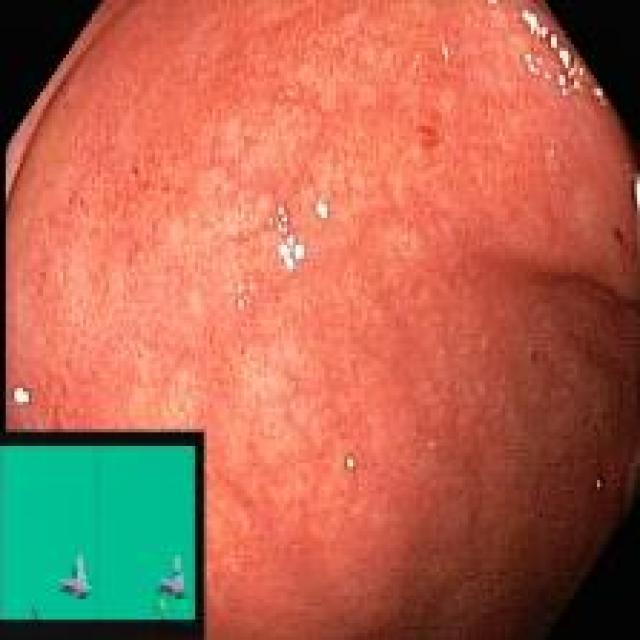ulcerative-colitis-grade-1: (8, 3, 640, 640)
